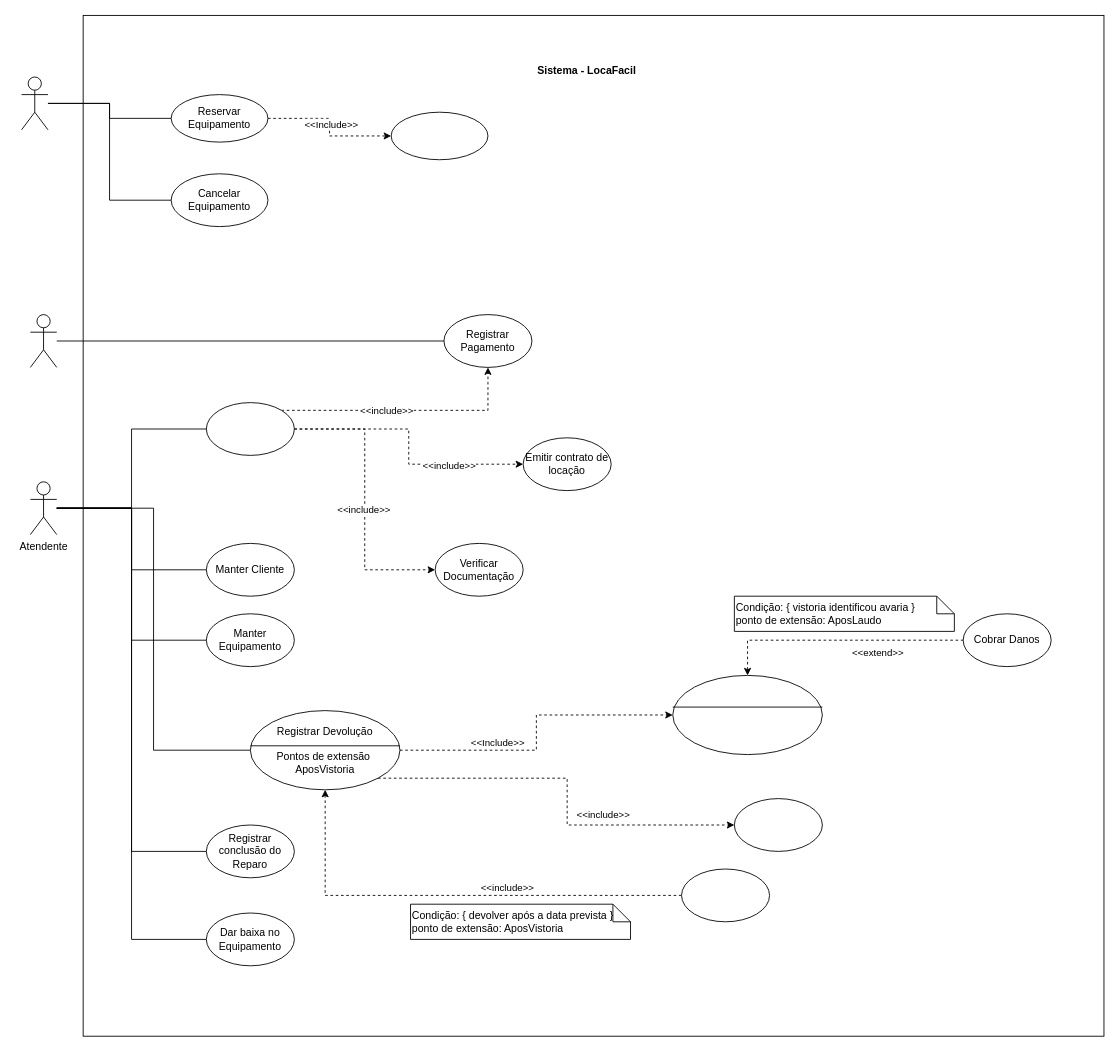
Some shapes in this 1119 by 1052 pixel diagram are drawn without their labels. Each missing label, with the centre of its shape:
Aplicar Multa por Atrado: the point at 725,895
Cliente: the point at 34,103
Consultar Disponibilidade do Equipamento: the point at 439,135
Emitir Compravante: the point at 777,824
Registrar Equipamento: the point at 249,428
Registrar Vistoria Pontos de extensão AposLaudo: the point at 747,715
Sistema de Pagamento: the point at 43,340
